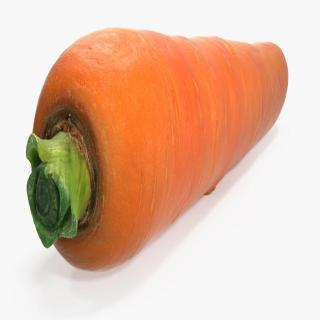carrot: (23, 26, 291, 276)
